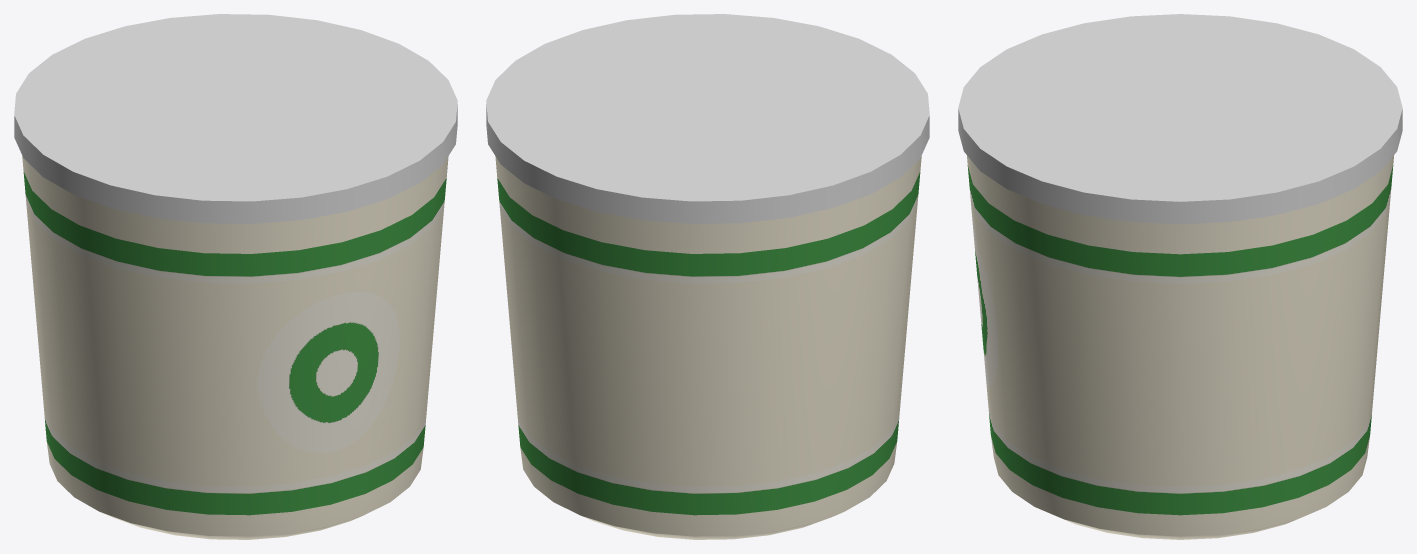
File: Cottage_Cheese.fbx
3 views of the same model, side by side, from view 1: azimuth 30°, elevation 25°; view 2: azimuth 150°, elevation 25°; view 3: azimuth 270°, elevation 25° (orthographic).
Parts seen in each view (by area): view 1: Cottage_Cheese; view 2: Cottage_Cheese; view 3: Cottage_Cheese.
Part boxes in pixels (box(x1,y1,x2,y2)): Cottage_Cheese: box(14, 14, 457, 539); Cottage_Cheese: box(486, 14, 929, 539); Cottage_Cheese: box(958, 14, 1402, 539).
Bounding box in the file's own units: 0.1071 × 0.096 × 0.1071.
Materials: 3 (1 with a texture image).
